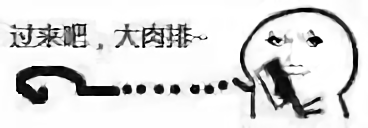dragon: (265, 30, 324, 77)
